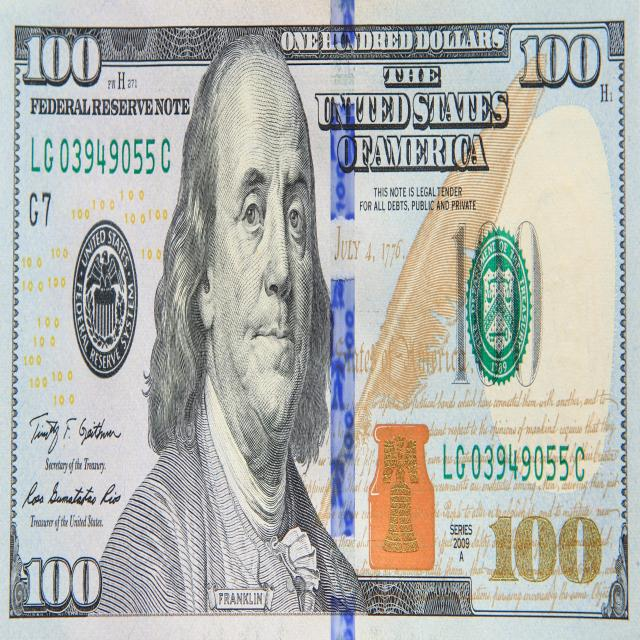100-Front: (1, 0, 640, 638)
